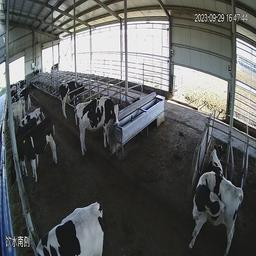cow: (182, 162, 243, 253), (27, 193, 106, 255), (73, 91, 126, 165), (16, 121, 59, 181), (5, 106, 42, 133), (58, 77, 82, 117), (201, 137, 224, 172), (5, 97, 26, 125), (7, 82, 27, 99)
